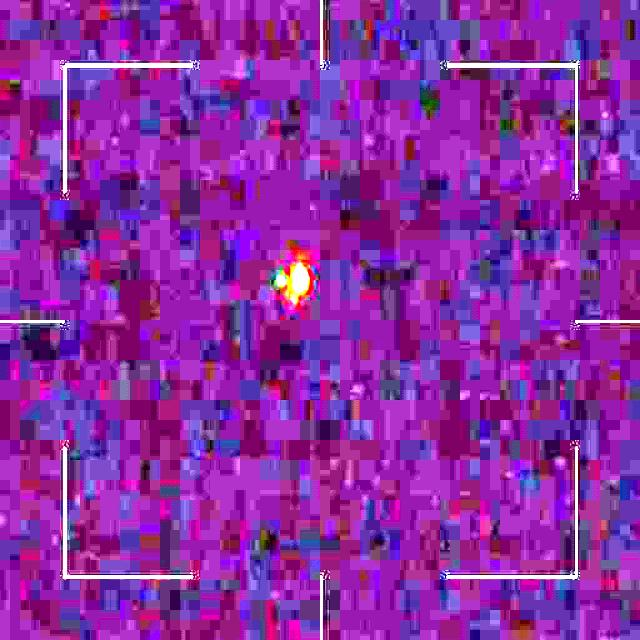bird: (275, 259, 312, 305)
